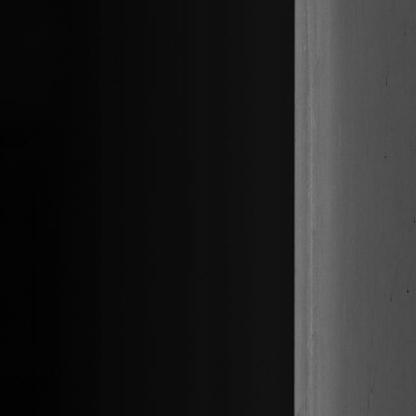inclusion: (404, 280, 412, 298)
